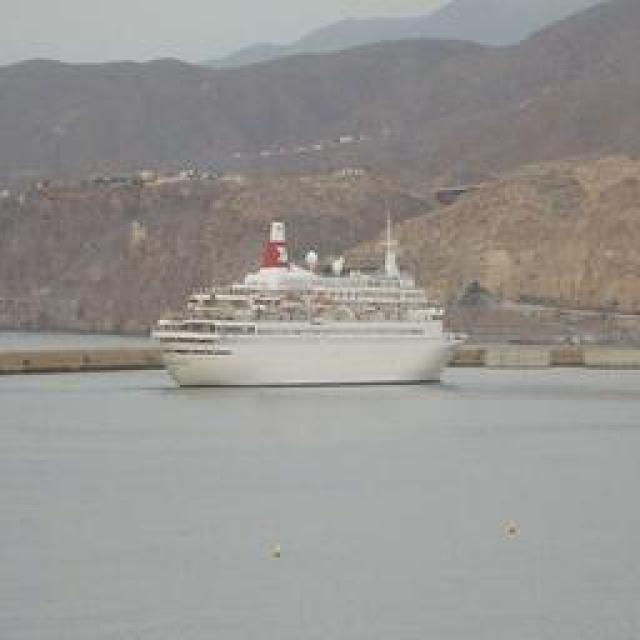Ship: (156, 221, 456, 389)
